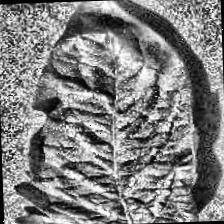spider mites: (8, 0, 197, 224)
